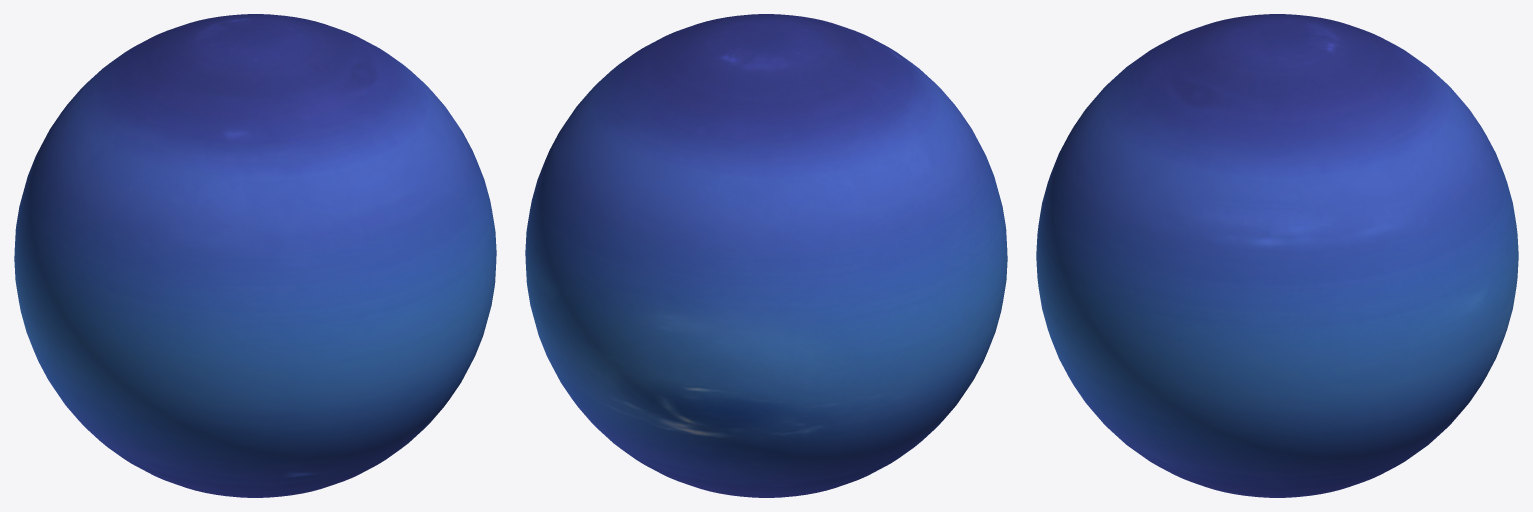
File: Neptun.obj
3 renders of one model, left to right at view 1: azimuth 30°, elevation 25°; view 2: azimuth 150°, elevation 25°; view 3: azimuth 270°, elevation 25°, orthographic.
Parts seen in each view (by area): view 1: Sphere; view 2: Sphere; view 3: Sphere.
Boxes of the visible parts, left/top/right/bottom form: Sphere: left=14, top=14, right=496, bottom=497; Sphere: left=525, top=14, right=1007, bottom=497; Sphere: left=1036, top=14, right=1518, bottom=497.
Size of the model in its own units: 49.05 by 49.48 by 49.05.
Materials: 1 (1 with a texture image).
